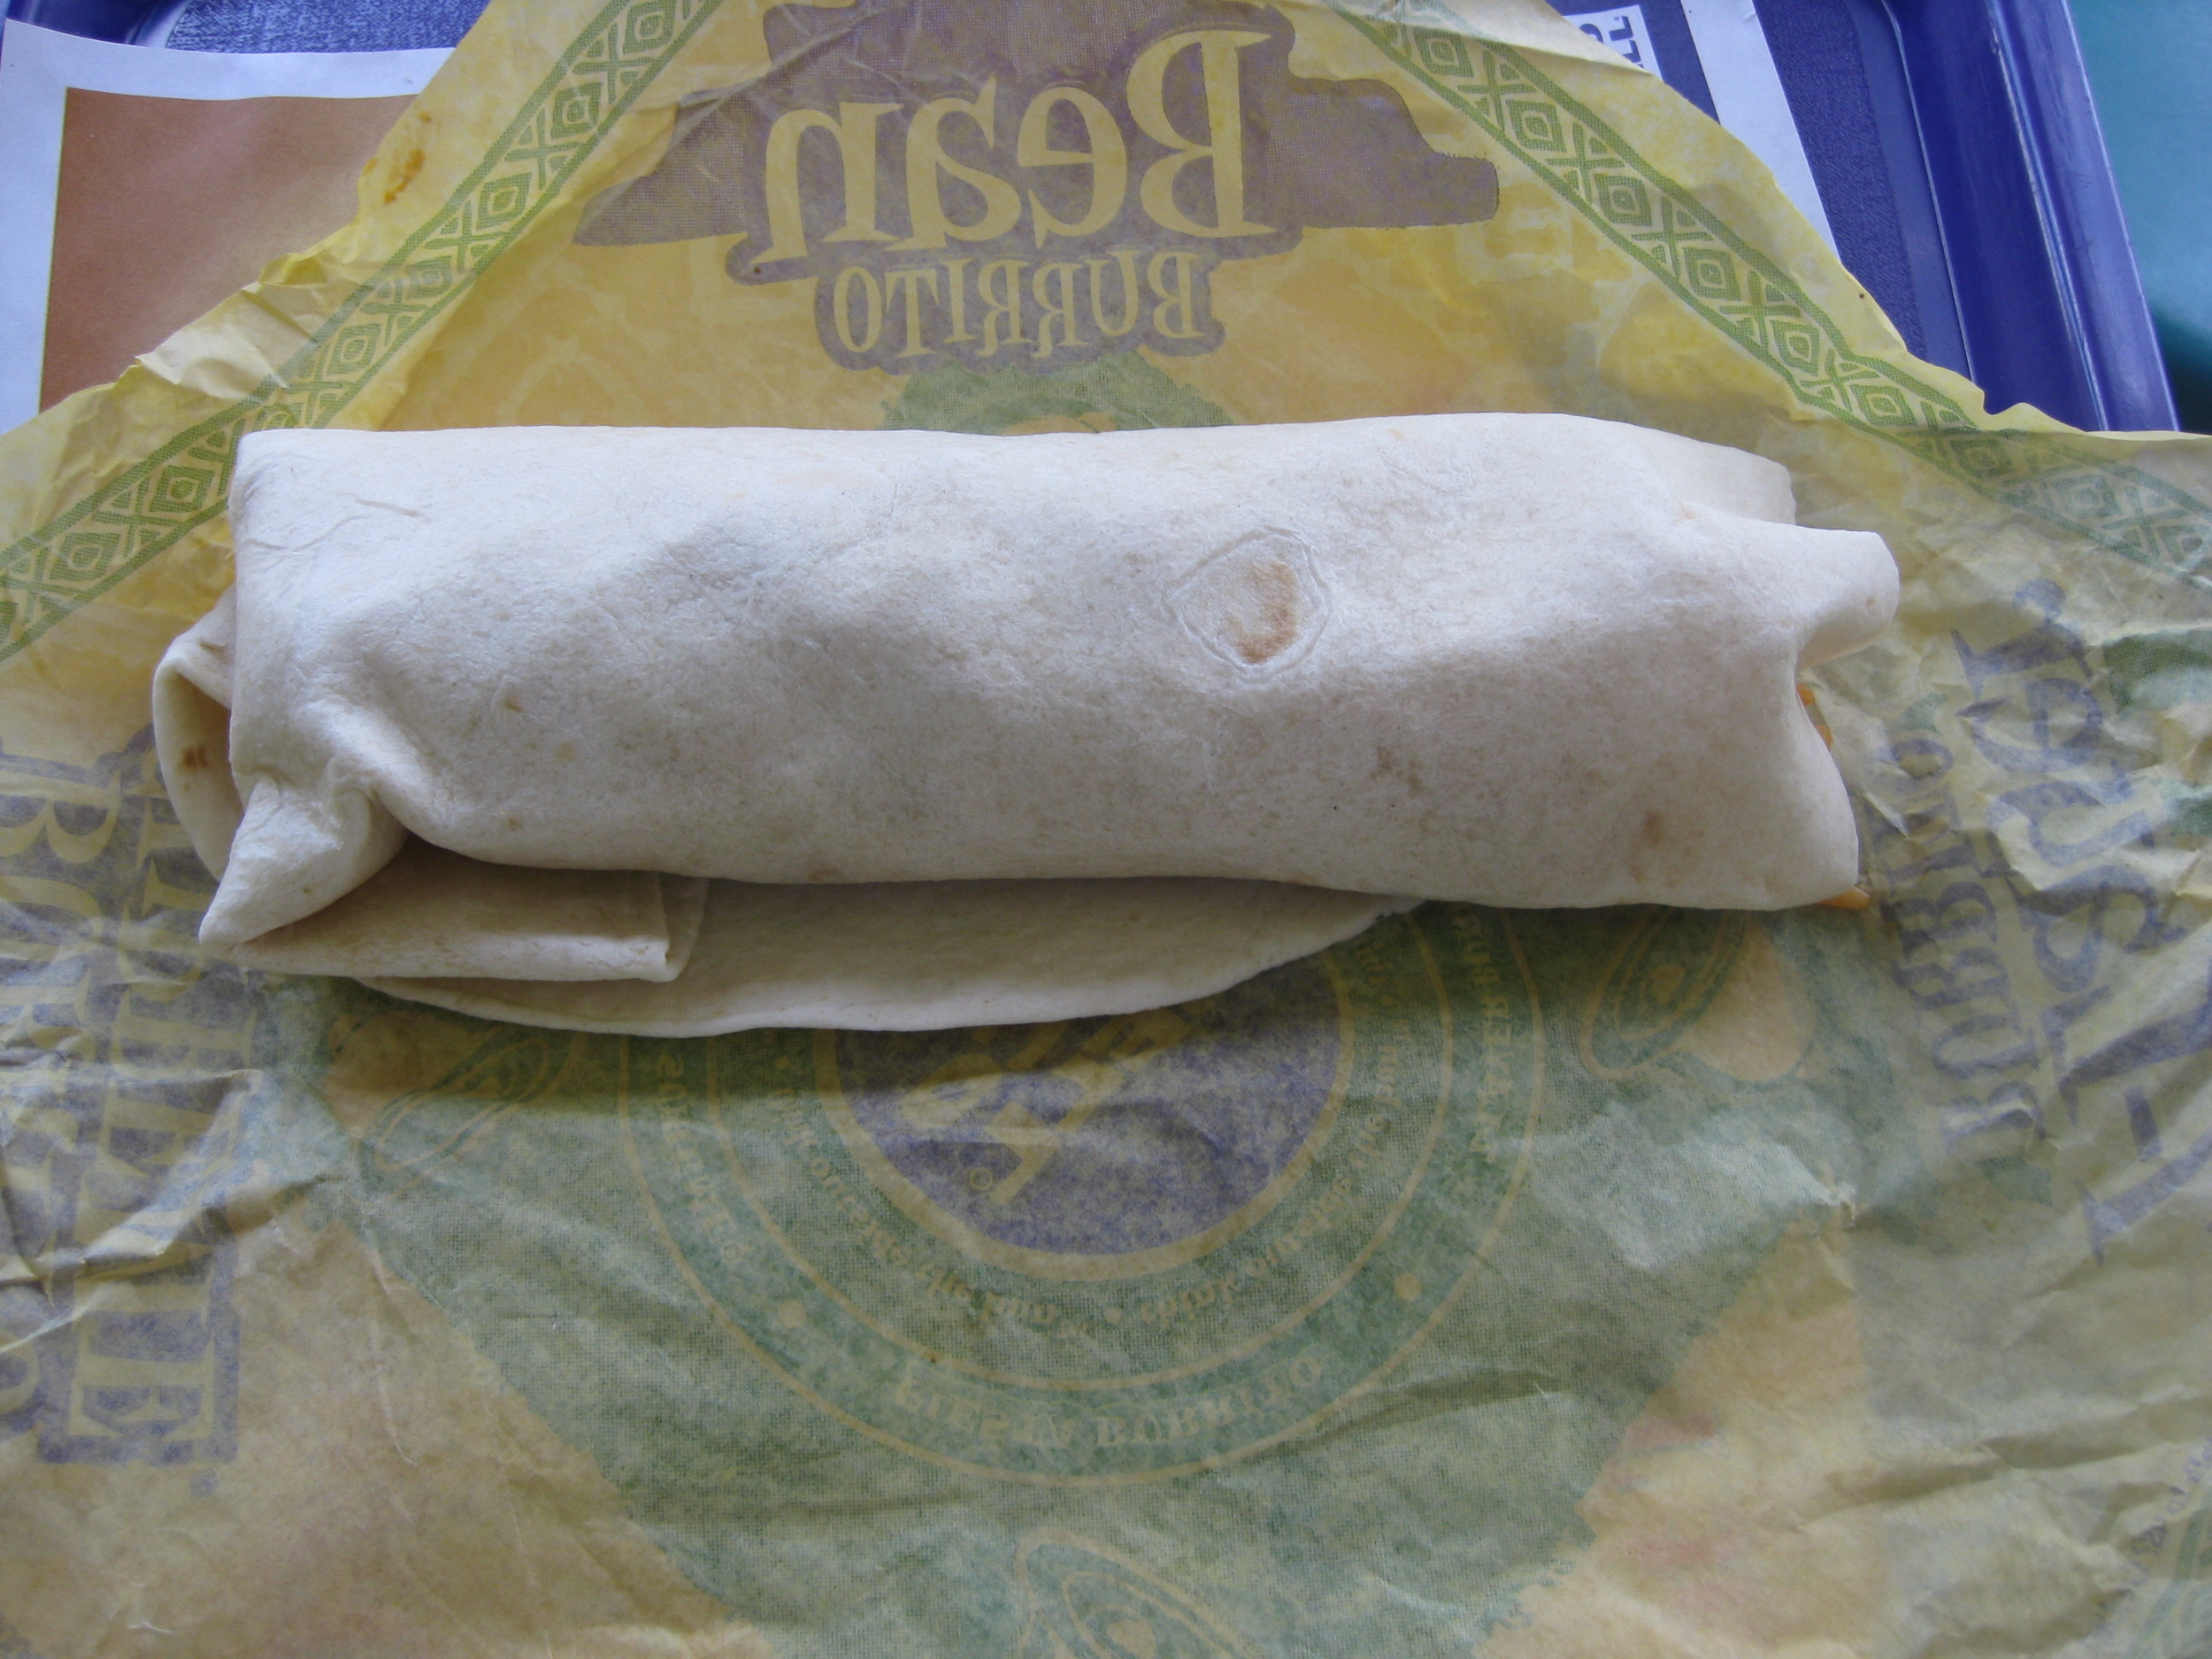burrito: (138, 311, 2063, 1113)
